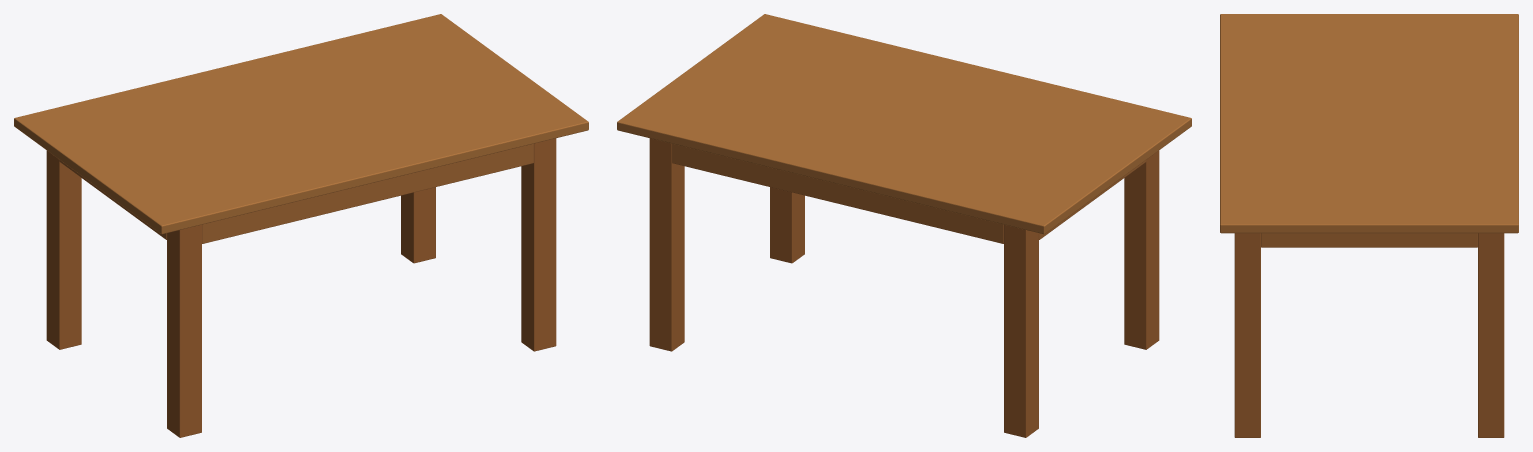
Rendered from Farmhouse_dining_table.obj.
3 renders of one model, left to right at view 1: azimuth 30°, elevation 25°; view 2: azimuth 150°, elevation 25°; view 3: azimuth 270°, elevation 25°, orthographic.
Visible parts, largest first — view 1: top, leg.front_left_1, leg.front_left_2, apron.long_1, leg.front_left_3, leg.front_left_4; view 2: top, leg.front_left_3, leg.front_left_4, apron.long_2, leg.front_left_1, leg.front_left_2; view 3: top, leg.front_left_2, leg.front_left_4, apron.short_2.
Part boxes in pixels (x1=…): top: x1=14, y1=14, x2=588, y2=234; leg.front_left_1: x1=167, y1=224, x2=201, y2=437; leg.front_left_2: x1=521, y1=138, x2=556, y2=351; apron.long_1: x1=202, y1=143, x2=533, y2=243; leg.front_left_3: x1=46, y1=150, x2=81, y2=349; leg.front_left_4: x1=401, y1=187, x2=435, y2=263; top: x1=617, y1=14, x2=1191, y2=234; leg.front_left_3: x1=1004, y1=224, x2=1038, y2=437; leg.front_left_4: x1=649, y1=138, x2=684, y2=351; apron.long_2: x1=672, y1=143, x2=1003, y2=243; leg.front_left_1: x1=1124, y1=150, x2=1159, y2=349; leg.front_left_2: x1=770, y1=187, x2=804, y2=263; top: x1=1220, y1=14, x2=1518, y2=233; leg.front_left_2: x1=1234, y1=233, x2=1260, y2=437; leg.front_left_4: x1=1478, y1=233, x2=1504, y2=437; apron.short_2: x1=1261, y1=233, x2=1477, y2=247.
Size of the model in its own units: 1.52 by 0.76 by 0.91.
